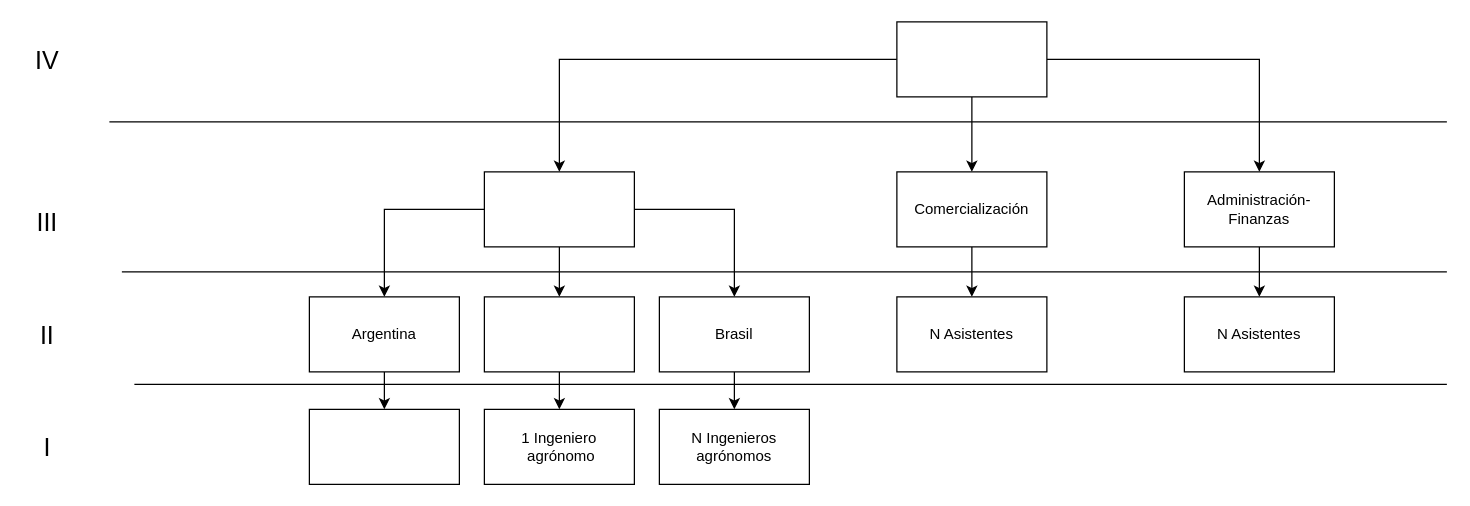
This 1470x506 diagram has some shape labels left out. Here are the shapes that lost their labels. From the top down, the centre of each, then its label:
At [971,59]: "Gerencia general".
At [558,209]: "Producción".
At [558,334]: "Uruguay".
At [383,446]: "3 Ingenieros agrónomos".
